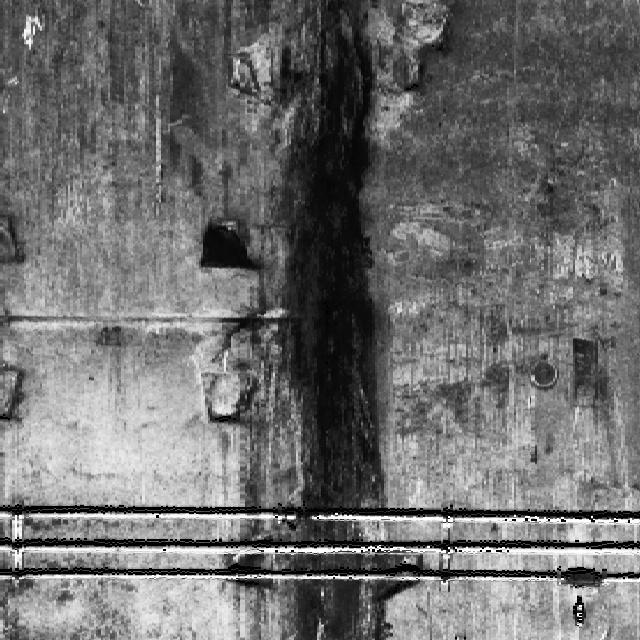leakage: (267, 0, 424, 638)
